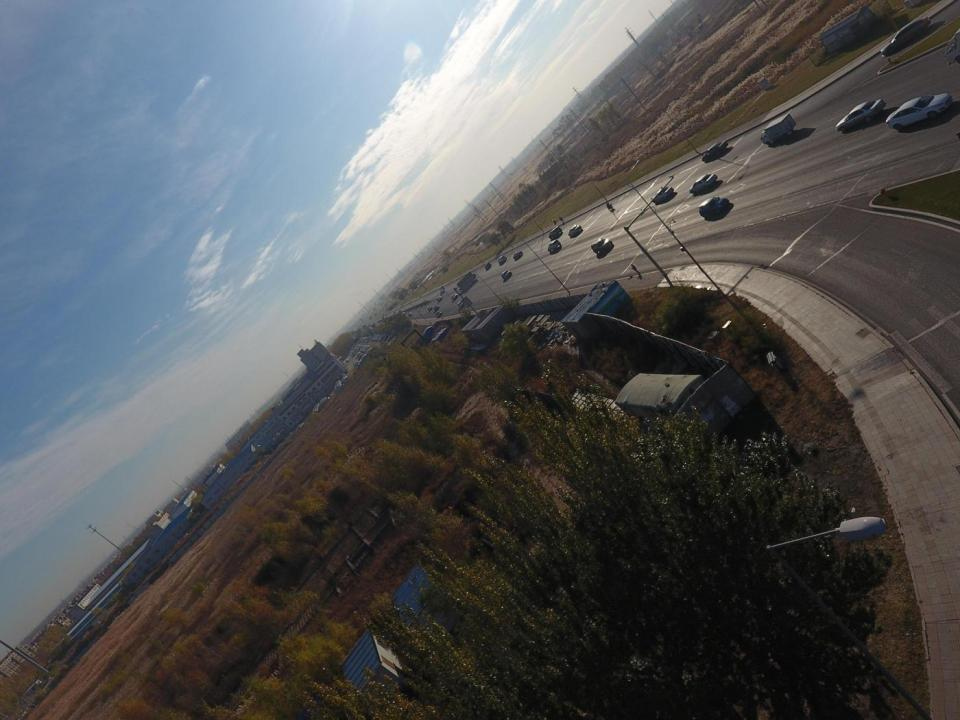car: (885, 93, 953, 130), (881, 16, 931, 57), (836, 97, 884, 134), (688, 172, 718, 194), (698, 196, 730, 216), (702, 141, 728, 163), (652, 185, 676, 204), (590, 239, 613, 253), (567, 224, 582, 239), (547, 240, 561, 252), (549, 228, 562, 239), (513, 250, 524, 261), (501, 271, 512, 280), (295, 422, 304, 431), (498, 256, 507, 264), (484, 262, 492, 271), (383, 332, 391, 340), (387, 334, 394, 342), (380, 333, 388, 340), (458, 301, 465, 308), (450, 294, 458, 300), (435, 311, 443, 317), (438, 290, 446, 296), (433, 305, 439, 311), (436, 296, 442, 302), (459, 288, 465, 293), (428, 306, 434, 311), (440, 285, 445, 291), (408, 312, 413, 317), (401, 312, 405, 315), (392, 311, 396, 313), (399, 309, 401, 312)
truck: (761, 112, 796, 146)
